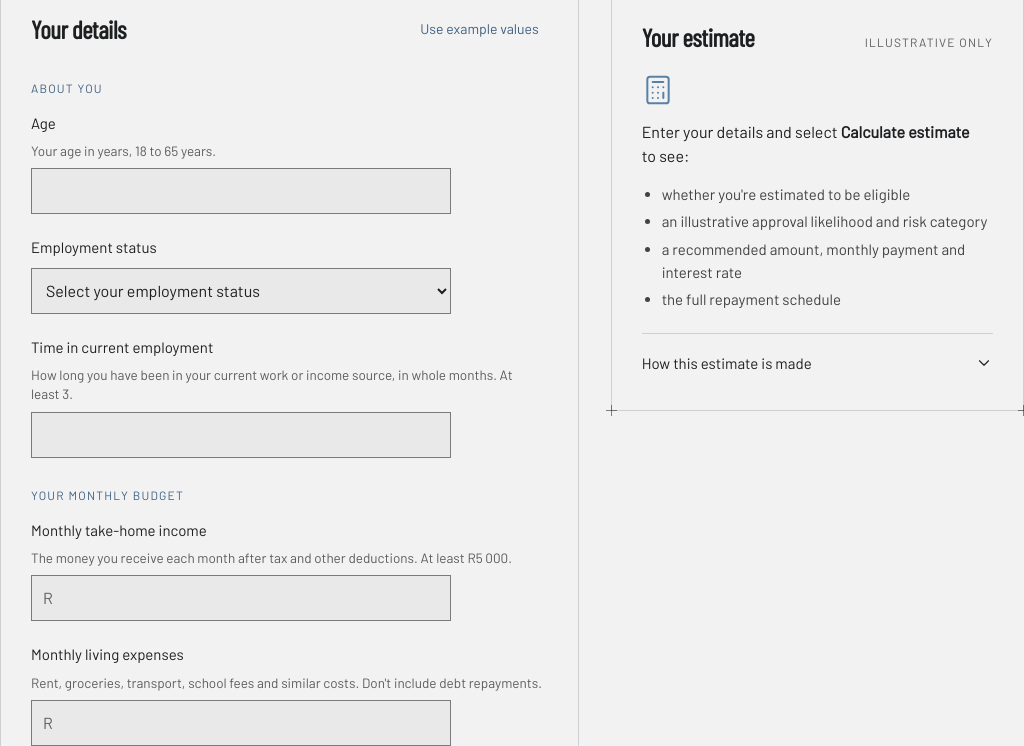
Test: a calculation › ignores the answer to a request that a reset has abandoned
The width and height of the screenshot is (1024, 746).
Click the button "Use example values": (480, 29) [411, 7, 548, 51]
(page scrolled)
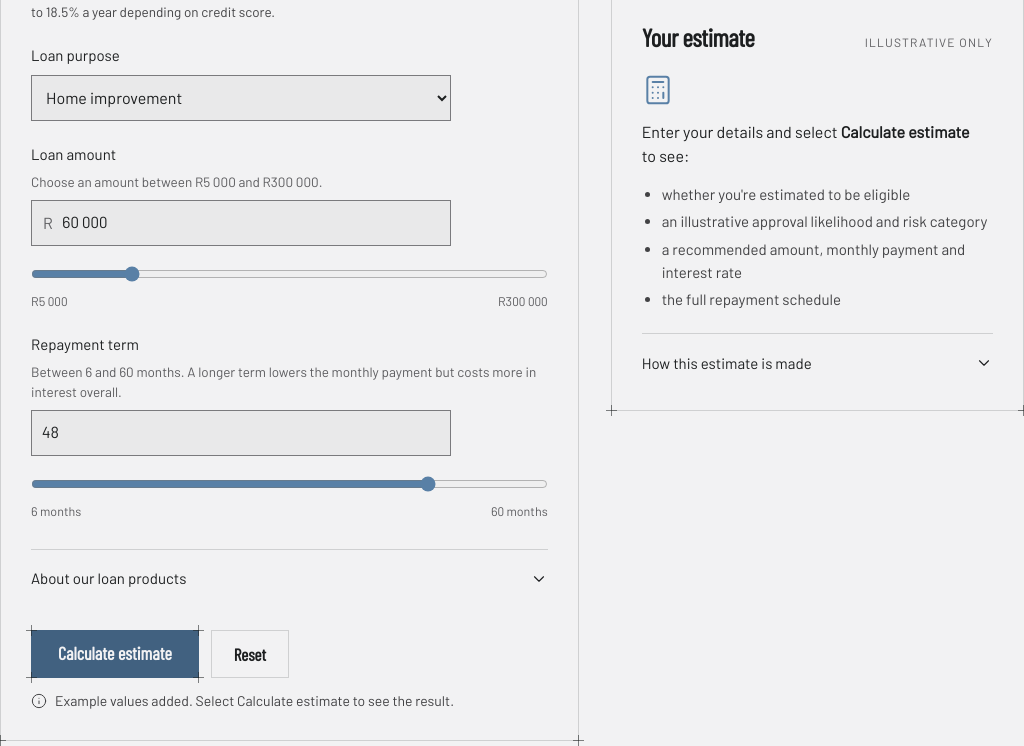
Click the button "Calculate estimate": (115, 654) [31, 630, 199, 678]
(page scrolled)
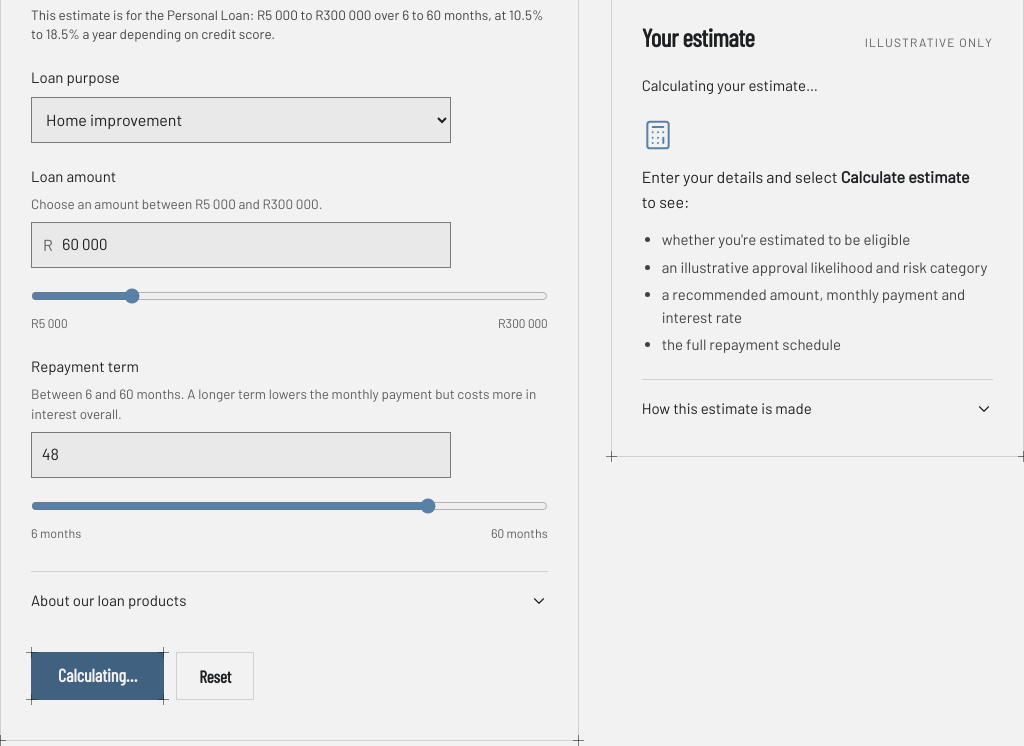
Check: the text "Calculating your estimate…" is shown, box [642, 76, 818, 94]
Click the button "Reset": (215, 676) [176, 652, 254, 700]
(page scrolled)
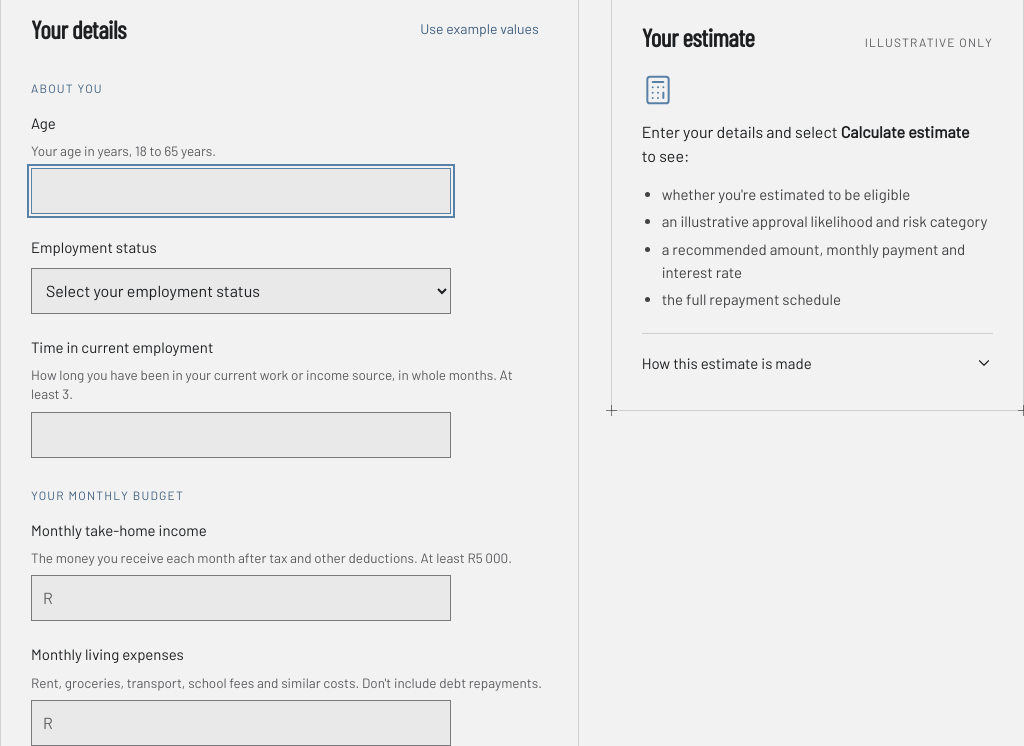
Check: the text "Calculating your estimate…" is gone
Check: the field named "Age in years" is empty, box [31, 168, 451, 214]
